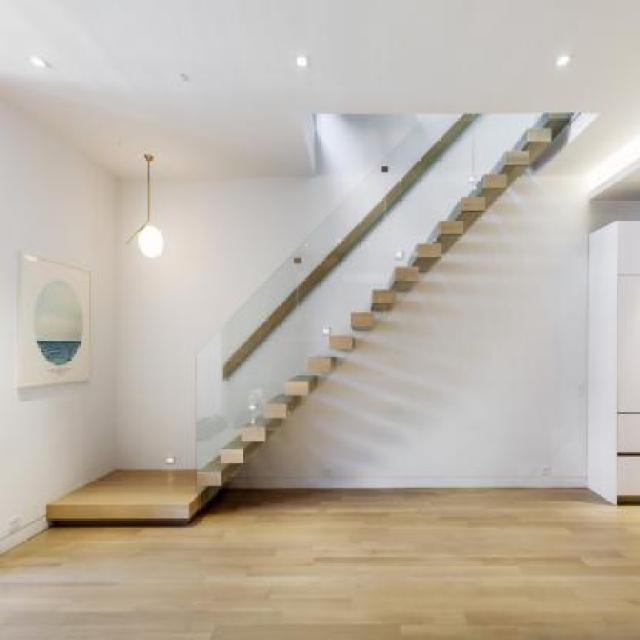stair: (43, 98, 591, 536)
